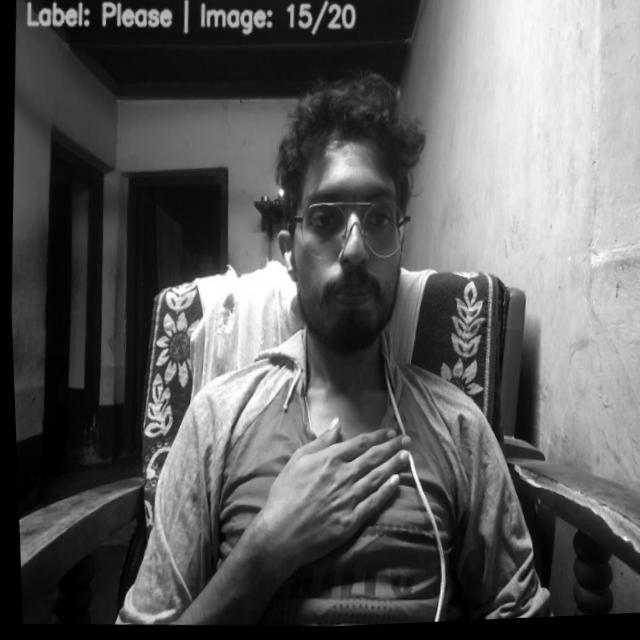Please: (270, 413, 414, 564)
